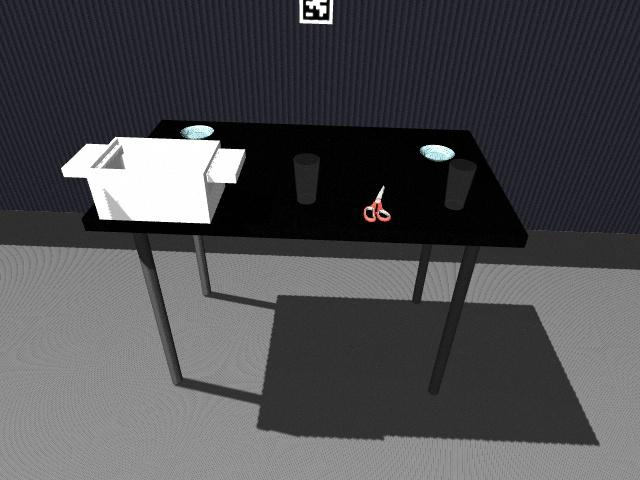cup: (445, 158, 477, 210), (293, 154, 321, 203)
plate: (419, 144, 455, 162), (179, 125, 215, 140)
scissors: (361, 184, 391, 223)
